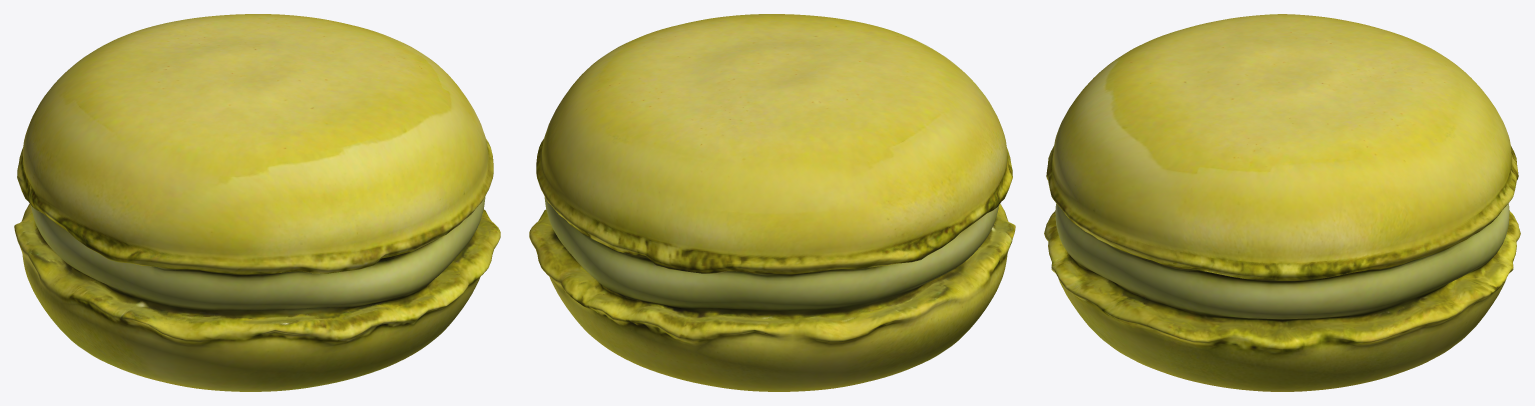
The model's file is Green_Delight_1226223814_texture.fbx.
The picture shows the model from 3 angles, left to right: view 1: azimuth 30°, elevation 25°; view 2: azimuth 150°, elevation 25°; view 3: azimuth 270°, elevation 25°; orthographic projection.
Visible parts, largest first — view 1: Mesh1_Mesh1.029; view 2: Mesh1_Mesh1.029; view 3: Mesh1_Mesh1.029.
Part boxes in pixels (box(x1,y1,x2,y2)): Mesh1_Mesh1.029: box(14, 14, 500, 391); Mesh1_Mesh1.029: box(529, 14, 1015, 391); Mesh1_Mesh1.029: box(1044, 14, 1520, 391).
Size of the model in its own units: 199 by 122 by 199.
1 material, 1 textured.
